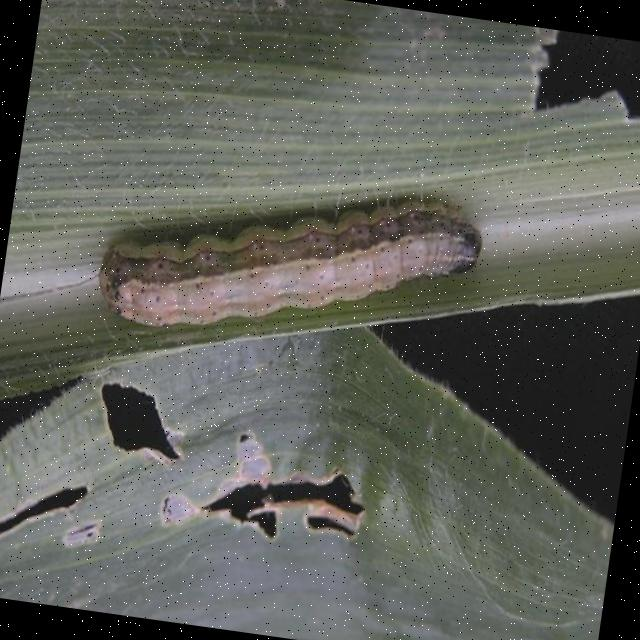worm: (92, 156, 489, 374)
